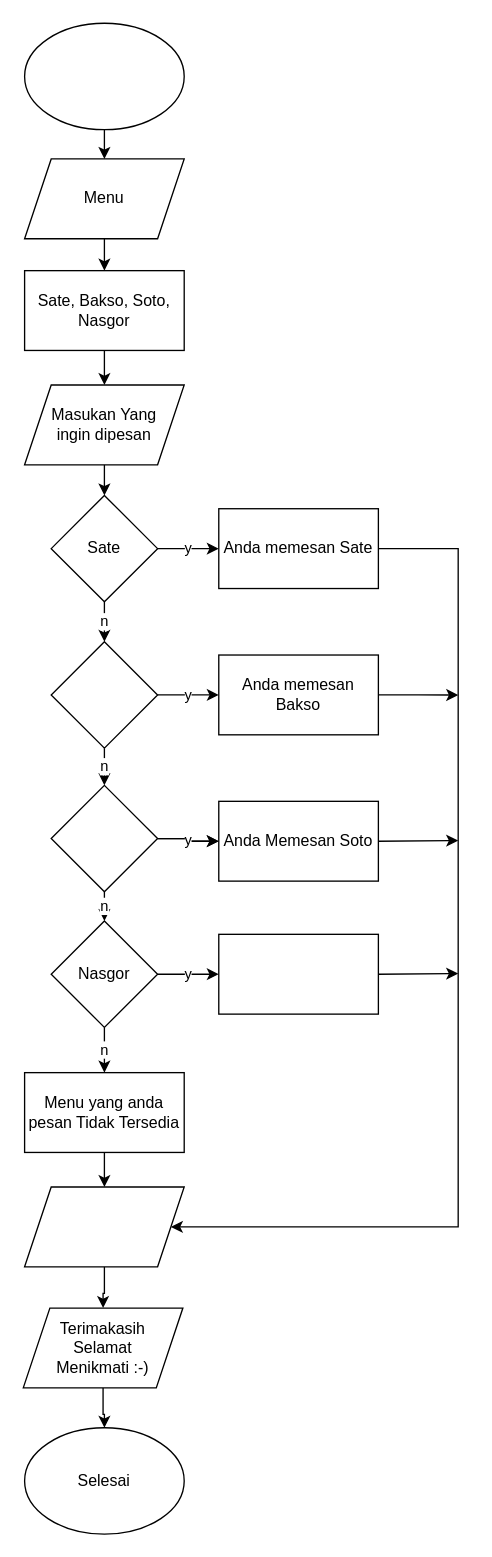
The diagram is 492 pixels wide and 1557 high, and some of its shapes have lost their labels. The box of each missing label's shape, as (x1, y1, x2, y2) in pixels:
Ada memesan Nasgor: (217, 933, 378, 1014)
Bakso: (50, 640, 158, 748)
Mulai: (23, 22, 184, 130)
Pesanan Anda :: (23, 1186, 184, 1267)
Soto: (50, 784, 158, 892)
